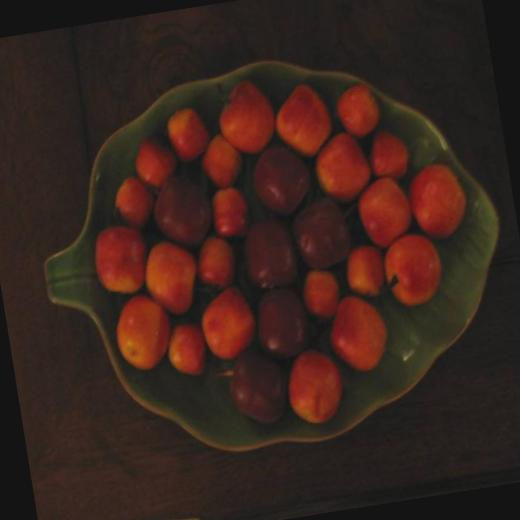Apple: (71, 54, 466, 456), (407, 157, 475, 242)
